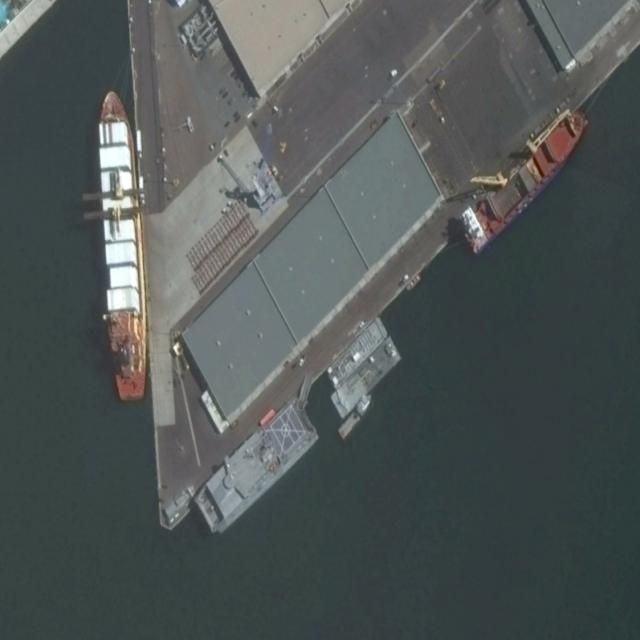Auxiliary Ships: (194, 395, 317, 541)
Container Ship: (94, 85, 152, 402)
Other Ship: (455, 95, 596, 260)
Other Warship: (337, 392, 374, 440)
